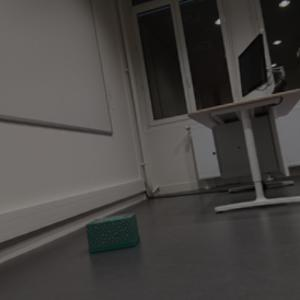small: (83, 213, 143, 255)
